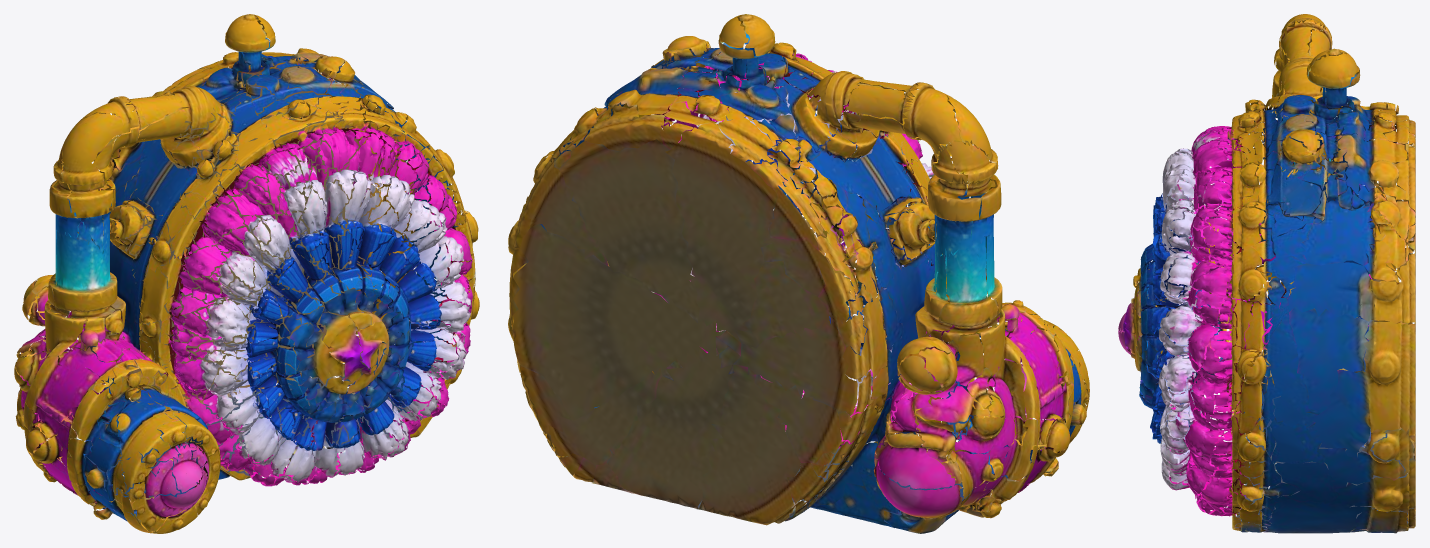
The model's file is BubbleWash_Side_Machinery_Claudia_Balanced.glb.
3 views of the same model, side by side, from view 1: azimuth 30°, elevation 25°; view 2: azimuth 150°, elevation 25°; view 3: azimuth 270°, elevation 25° (orthographic). The views are drawn at different scales.
Visible parts, largest first — view 1: SideMachinery; view 2: SideMachinery; view 3: SideMachinery.
Part boxes in pixels (x1,y1,x2,y2): SideMachinery: (14, 14, 479, 533); SideMachinery: (508, 14, 1089, 533); SideMachinery: (1118, 14, 1415, 533).
Size of the model in its own units: 1.88 by 1.72 by 1.08.
Materials: 1 (1 with a texture image).
